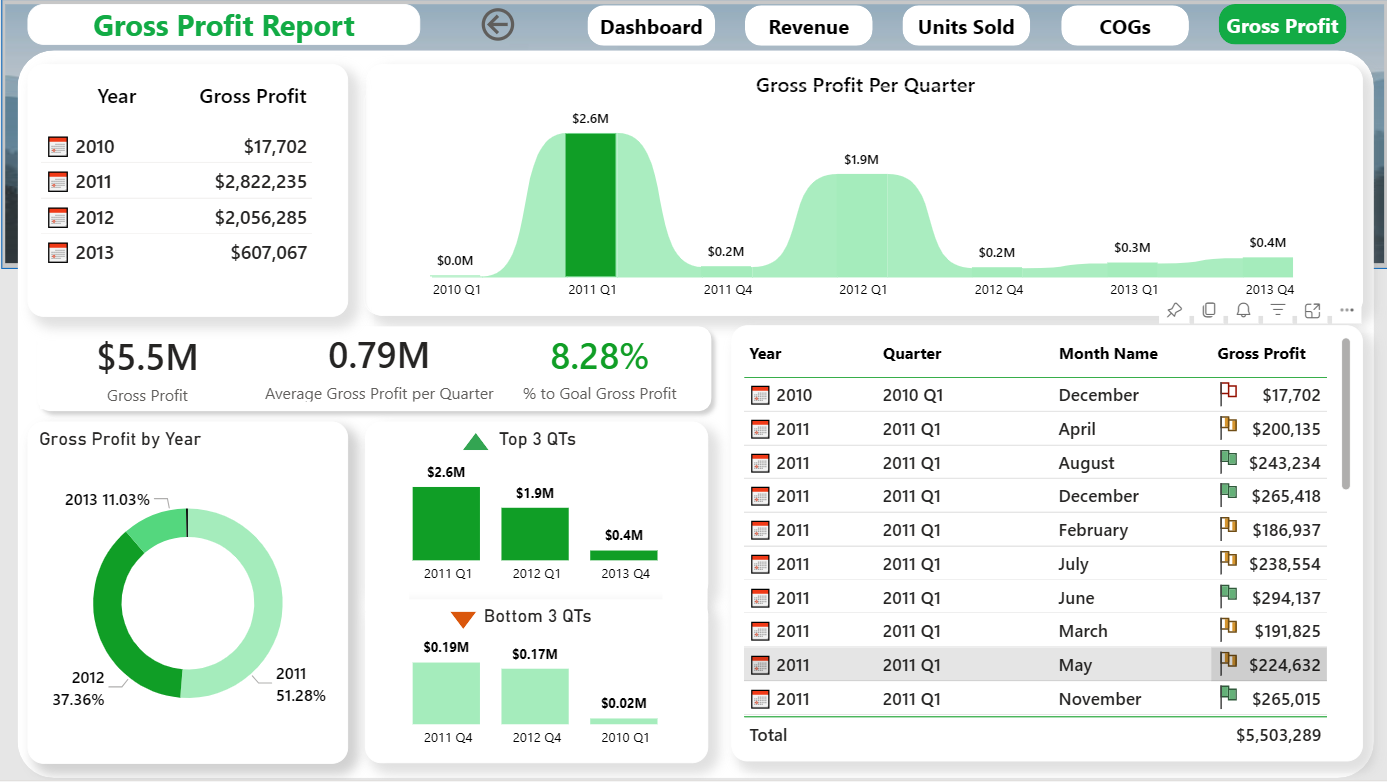

The page's visual inventory and layout, read from the dashboard file:
{"tool":"powerbi","page":{"name":"Gross Profit","canvas":[1280,720],"ordinal":4},"visuals":[{"type":"group","id":"g1","title":"Image","box":[0,0,1280,248.8],"z":0},{"type":"image","box":[0,0,1279.2,248.8],"z":0,"group":"g1"},{"type":"actionButton","title":"Dashboard Button","box":[541.1,5.9,117.5,37.4],"z":0,"group":"g3"},{"type":"ribbonChart","title":"Gross Profit Per Quarter","fields":{"Category":["Calendar.Quarter"],"Y":["_Measures.Gross Profit"]},"box":[337.1,60.2,917.7,232.3],"z":0,"group":"g5"},{"type":"columnChart","title":"Top 3 QTs","fields":{"Category":["Calendar.Quarter"],"Y":["_Measures.Gross Profit"]},"box":[337,389,316.2,163.6],"z":0,"group":"g4"},{"type":"shape","box":[1.3,0,1278.7,248.6],"z":1000,"group":"g1"},{"type":"actionButton","title":"Revenue Button","box":[686.3,6,117.5,37.4],"z":1000,"group":"g3"},{"type":"shape","box":[16,47,1249,670],"z":1000},{"type":"columnChart","title":"Column","fields":{"Category":["Calendar.Quarter"],"Y":["_Measures.Gross Profit"]},"box":[335,80.5,920,210.6],"z":1000,"group":"g5"},{"type":"columnChart","title":"Bottom 3 QTs","fields":{"Category":["Calendar.Quarter"],"Y":["_Measures.Gross Profit"]},"box":[337,552.9,316.2,151.1],"z":1000,"group":"g4"},{"type":"actionButton","title":"Units Sold Button","box":[831.6,6.1,117.5,37.4],"z":2000,"group":"g3"},{"type":"group","id":"g2","title":"Dashboard","box":[25.8,60.2,1229.4,643.8],"z":2000},{"type":"donutChart","fields":{"Category":["Calendar.Year"],"Y":["_Measures.Gross Profit"]},"box":[25.8,389,295,315],"z":2000,"group":"g2"},{"type":"shape","box":[426.5,399.2,24.4,16.2],"z":2000,"group":"g4"},{"type":"group","id":"g3","title":"Group 1","box":[541.1,4.8,698.5,38.7],"z":3000},{"type":"actionButton","title":"Gross Profit Button","box":[1122,4.8,117.5,37.4],"z":3000,"group":"g3"},{"type":"group","id":"g4","title":"Small Columns","box":[337,389,316.2,315],"z":3000,"group":"g2"},{"type":"shape","box":[414.9,564.1,24.4,16.2],"z":3000,"group":"g4"},{"type":"actionButton","box":[438.2,3.6,67.8,39.9],"z":4000},{"type":"actionButton","title":"COGs Button","box":[976.8,6.1,117.5,37.4],"z":4000,"group":"g3"},{"type":"group","id":"g5","title":"New Chart","box":[335,60.2,920,232.3],"z":4000,"group":"g2"},{"type":"shape","box":[611.4,540.6,41.5,30],"z":4000,"group":"g4"},{"type":"textbox","box":[25.4,4.8,361.9,37.5],"z":5000},{"type":"shape","title":"Shape for cards","box":[25.8,292.7,638.8,96.2],"z":5000,"group":"g2"},{"type":"shape","title":"White Block","box":[337,534.1,40.7,30],"z":5000,"group":"g4"},{"type":"tableEx","fields":{"Values":["Calendar.Year with icon","Calendar.Quarter","Calendar.Month Name","_Measures.Gross Profit"]},"box":[673.5,301,581.7,401.9],"z":6000,"group":"g2"},{"type":"card","fields":{"Values":["_Measures.Gross Profit"]},"box":[37,301.4,198.8,76.2],"z":7000,"group":"g2"},{"type":"card","fields":{"Values":["_Measures.Average Gross Profit per Quarter"]},"box":[237,303.4,225.1,74.6],"z":8000,"group":"g2"},{"type":"card","fields":{"Values":["_Measures.% to Goal Gross Profit"]},"box":[462,304,182.5,73.8],"z":9000,"group":"g2"},{"type":"tableEx","fields":{"Values":["Calendar.Year with icon","_Measures.Gross Profit"]},"box":[25.8,60.2,295,232.5],"z":10000,"group":"g2"}]}

Visuals, with their boxes in screenshot pixels (x1, y1, x2, y2), scaled from the page's 1280x720 canvas onto the 1387x782 screenshot:
"Image" group: [left=0, top=0, right=1386, bottom=270]
image: [left=0, top=0, right=1386, bottom=270]
"Dashboard Button" actionButton: [left=586, top=6, right=714, bottom=47]
"Gross Profit Per Quarter" ribbonChart: [left=365, top=65, right=1360, bottom=318]
"Top 3 QTs" columnChart: [left=365, top=422, right=708, bottom=600]
shape: [left=1, top=0, right=1386, bottom=270]
"Revenue Button" actionButton: [left=744, top=7, right=871, bottom=47]
shape: [left=17, top=51, right=1371, bottom=779]
"Column" columnChart: [left=363, top=87, right=1360, bottom=316]
"Bottom 3 QTs" columnChart: [left=365, top=601, right=708, bottom=765]
"Units Sold Button" actionButton: [left=901, top=7, right=1028, bottom=47]
"Dashboard" group: [left=28, top=65, right=1360, bottom=765]
donutChart - Calendar.Year x _Measures.Gross Profit: [left=28, top=422, right=348, bottom=765]
shape: [left=462, top=434, right=489, bottom=451]
"Group 1" group: [left=586, top=5, right=1343, bottom=47]
"Gross Profit Button" actionButton: [left=1216, top=5, right=1343, bottom=46]
"Small Columns" group: [left=365, top=422, right=708, bottom=765]
shape: [left=450, top=613, right=476, bottom=630]
actionButton: [left=475, top=4, right=548, bottom=47]
"COGs Button" actionButton: [left=1058, top=7, right=1186, bottom=47]
"New Chart" group: [left=363, top=65, right=1360, bottom=318]
shape: [left=663, top=587, right=707, bottom=620]
textbox: [left=28, top=5, right=420, bottom=46]
"Shape for cards" shape: [left=28, top=318, right=720, bottom=422]
"White Block" shape: [left=365, top=580, right=409, bottom=613]
tableEx - Calendar.Year with icon x Calendar.Quarter: [left=730, top=327, right=1360, bottom=763]
card - _Measures.Gross Profit: [left=40, top=327, right=256, bottom=410]
card - _Measures.Average Gross Profit per Quarter: [left=257, top=330, right=501, bottom=411]
card - _Measures.% to Goal Gross Profit: [left=501, top=330, right=698, bottom=410]
tableEx - Calendar.Year with icon x _Measures.Gross Profit: [left=28, top=65, right=348, bottom=318]
